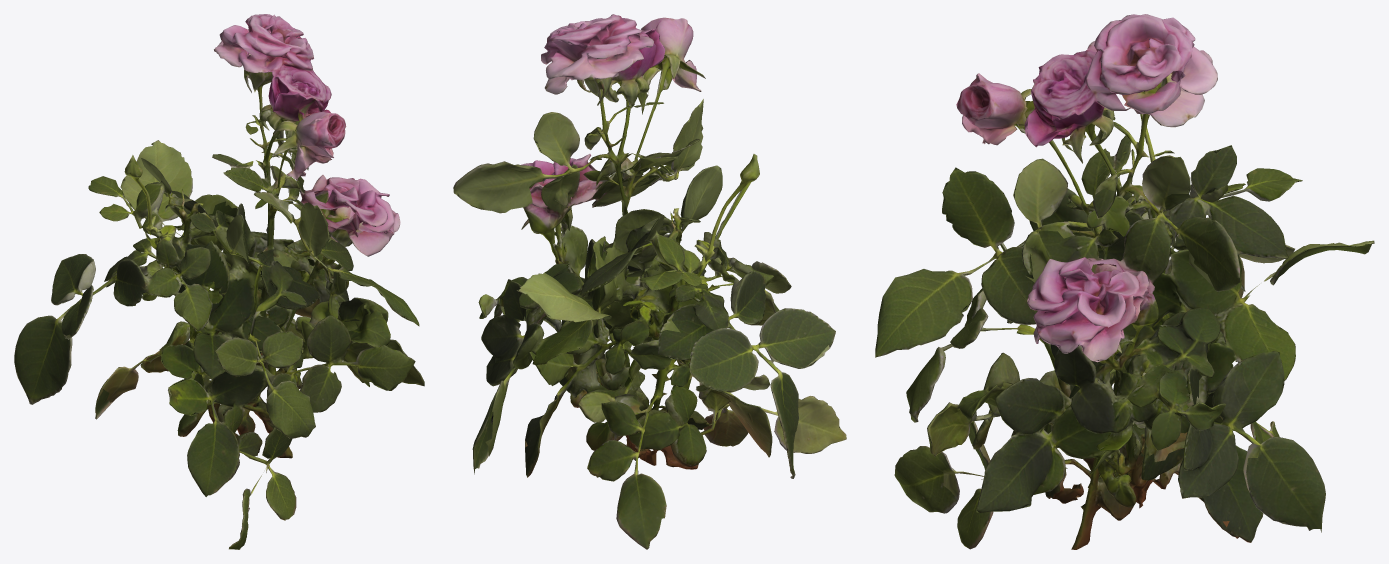
The model's file is roses_light.glb.
The picture shows the model from 3 angles, left to right: view 1: azimuth 30°, elevation 25°; view 2: azimuth 150°, elevation 25°; view 3: azimuth 270°, elevation 25°; orthographic projection. The views are drawn at different scales.
Parts seen in each view (by area): view 1: Object_2; view 2: Object_2; view 3: Object_2.
Boxes of the visible parts, x1,y1,x2,y2 form: Object_2: (14,14,424,549); Object_2: (453,14,846,549); Object_2: (875,14,1374,549).
Bounding box in the file's own units: 3.14 × 4.1 × 3.33.
Materials: 1 (1 with a texture image).
